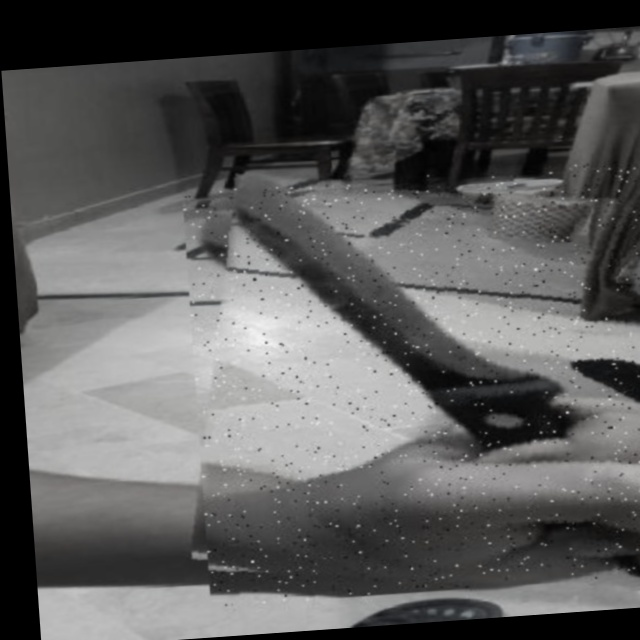Sharp-Object: (183, 156, 640, 607)
